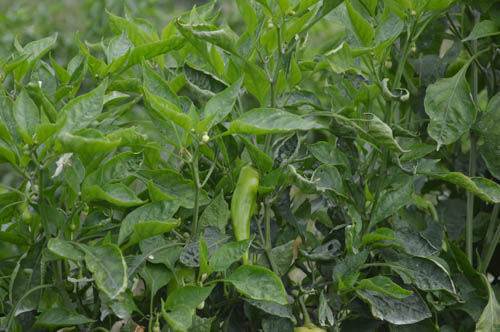ChiliPepper: (226, 167, 258, 253)
